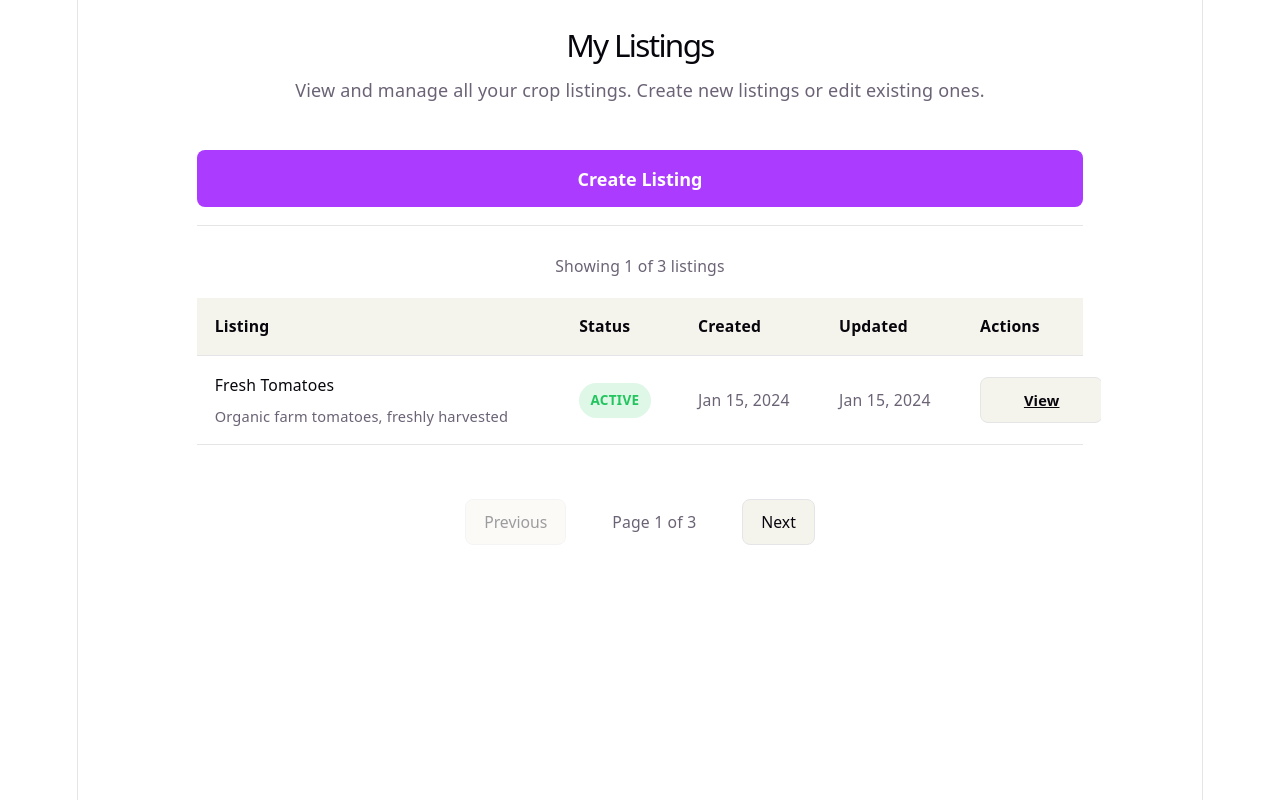
Test case: MyListingsPage › Next button navigates to next page
This screenshot has width=1280, height=800.
Expected: the text "Fresh Tomatoes" is shown, top-left (215, 374), bottom-right (334, 396)
Step 1. Click the button "Next" → (779, 522), box top-left (742, 499), bottom-right (815, 546)
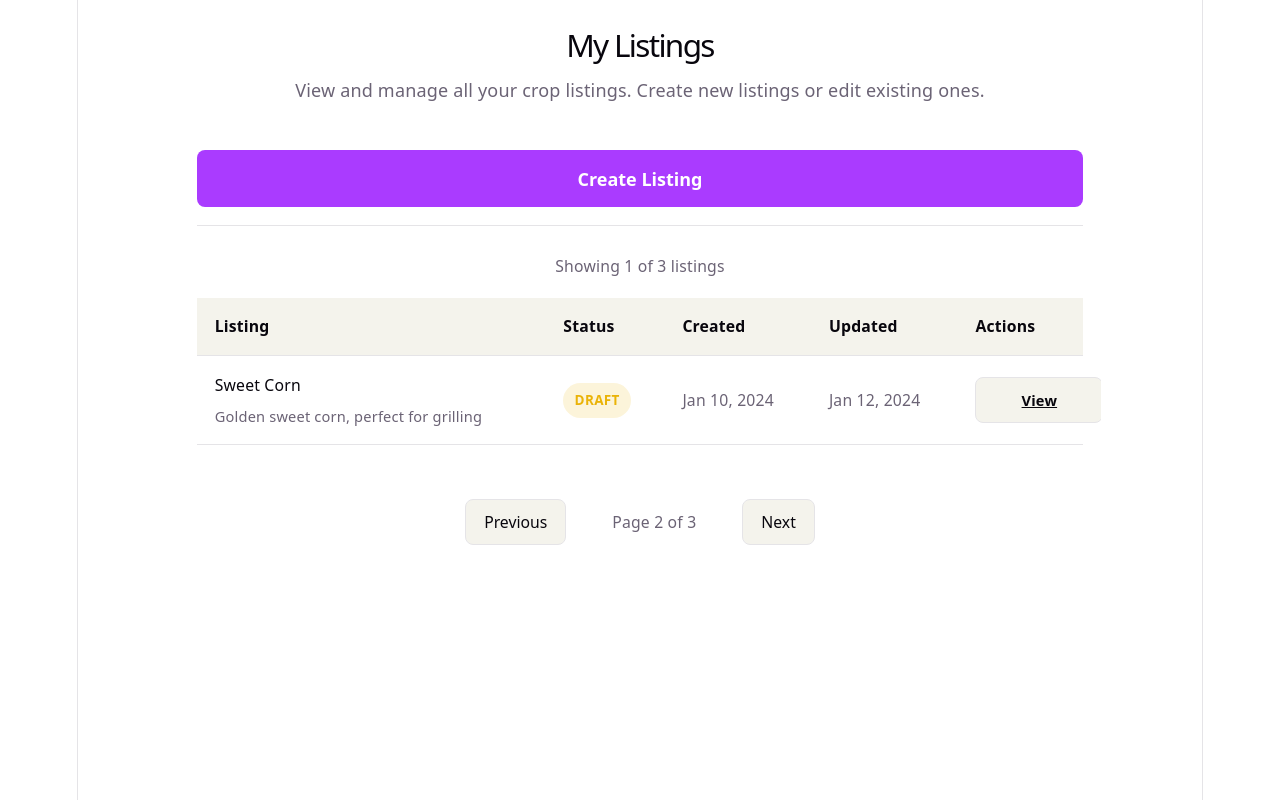
Expected: the text "Page 2 of 3" is shown, top-left (612, 511), bottom-right (696, 533)
Expected: the text "Sweet Corn" is shown, top-left (215, 374), bottom-right (301, 396)
